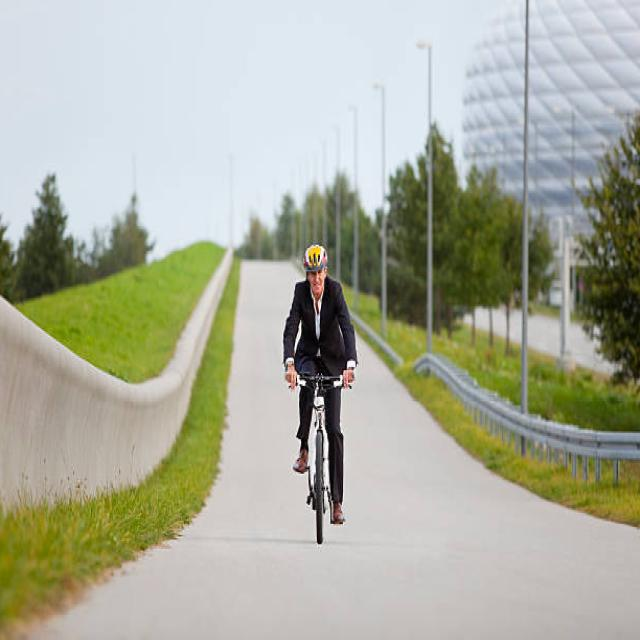bicycle: (284, 244, 358, 543)
